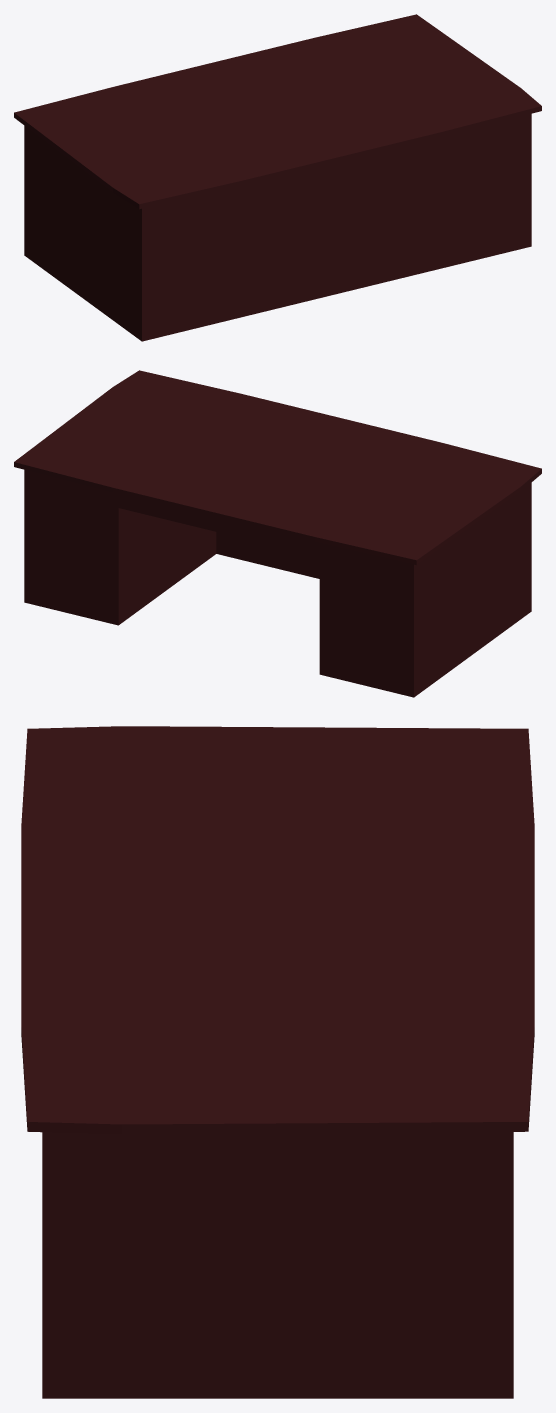
Rendered from desk.fbx.
3 views of the same model, one above another, from view 1: azimuth 30°, elevation 25°; view 2: azimuth 150°, elevation 25°; view 3: azimuth 270°, elevation 25° (orthographic). The views are drawn at different scales.
Parts seen in each view (by area): view 1: desk; view 2: desk; view 3: desk.
Part boxes in pixels (box(x1,y1,x2,y2)): desk: box(14, 14, 541, 341); desk: box(14, 370, 541, 697); desk: box(21, 726, 534, 1398).
Bounding box in the file's own units: 209 × 69.44 × 114.
